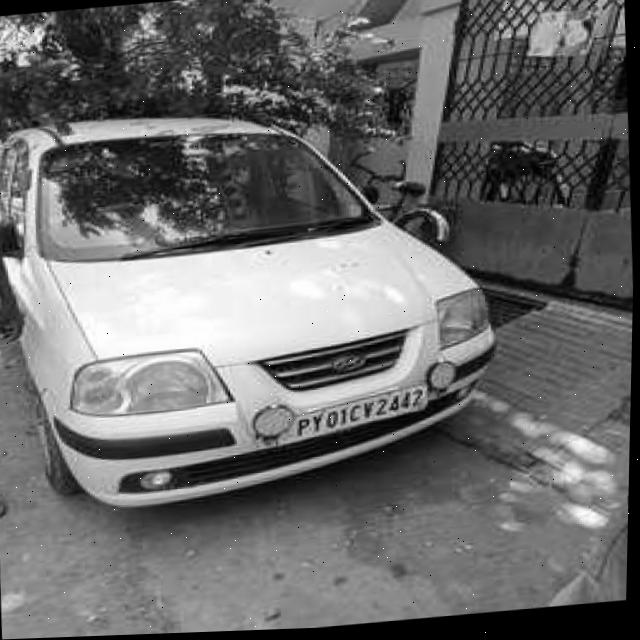car: (0, 83, 517, 529), (292, 385, 437, 454)
